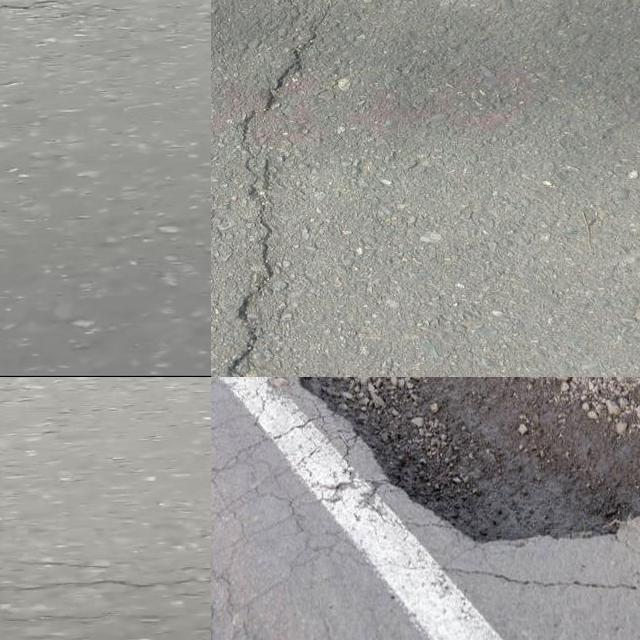Memanjang: (212, 0, 322, 377)
Pinggir: (297, 377, 640, 553)
